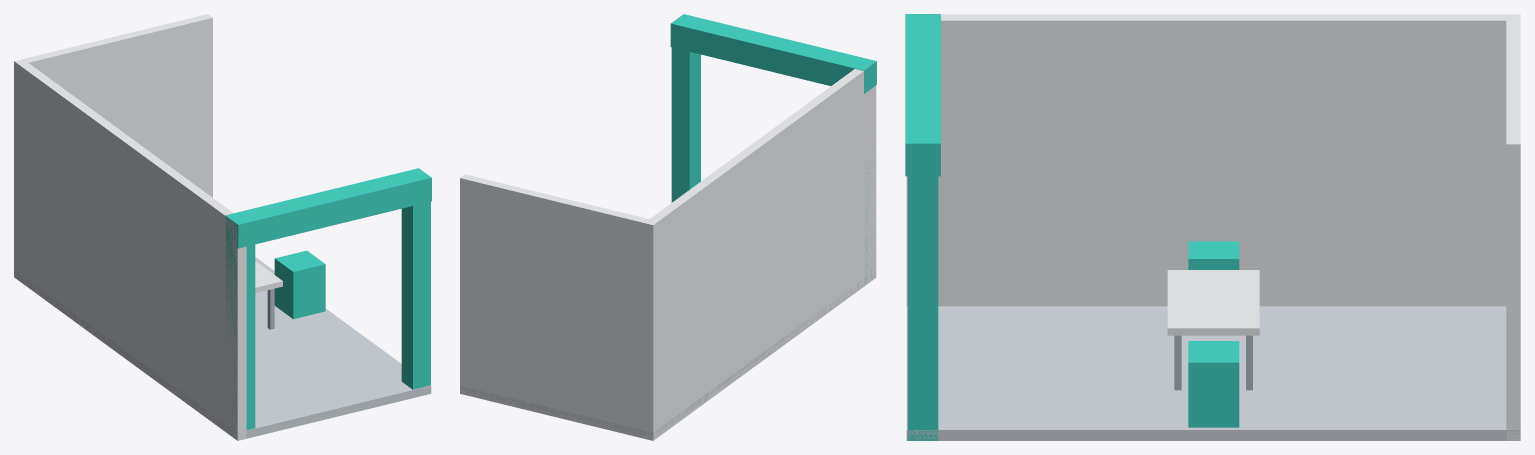
3 views of the same model, side by side, from view 1: azimuth 30°, elevation 25°; view 2: azimuth 150°, elevation 25°; view 3: azimuth 270°, elevation 25° (orthographic). The views are drawn at different scales.
Visible parts, largest first — view 1: Exhibition Booth Concept; view 2: Exhibition Booth Concept; view 3: Exhibition Booth Concept.
Boxes of the visible parts, x1,y1,x2,y2 form: Exhibition Booth Concept: (14, 14, 431, 440); Exhibition Booth Concept: (460, 14, 876, 440); Exhibition Booth Concept: (905, 14, 1520, 440).
Size of the model in its own units: 3 by 3.2 by 6.02.
